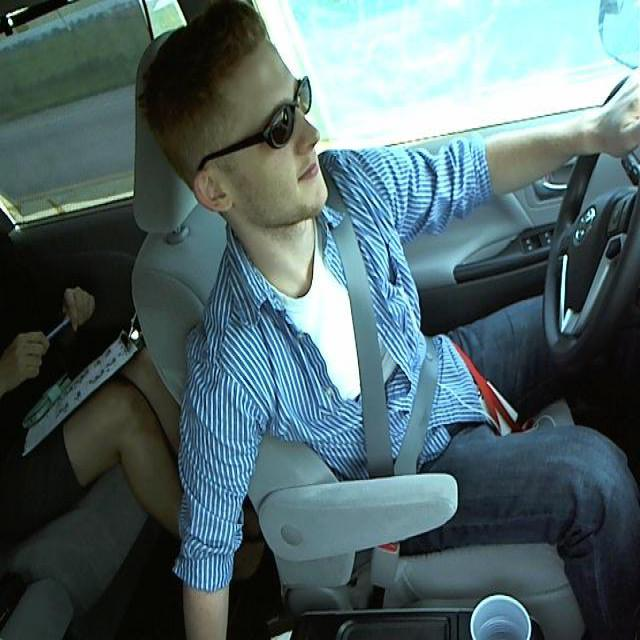seatbelt: (328, 228, 441, 464)
